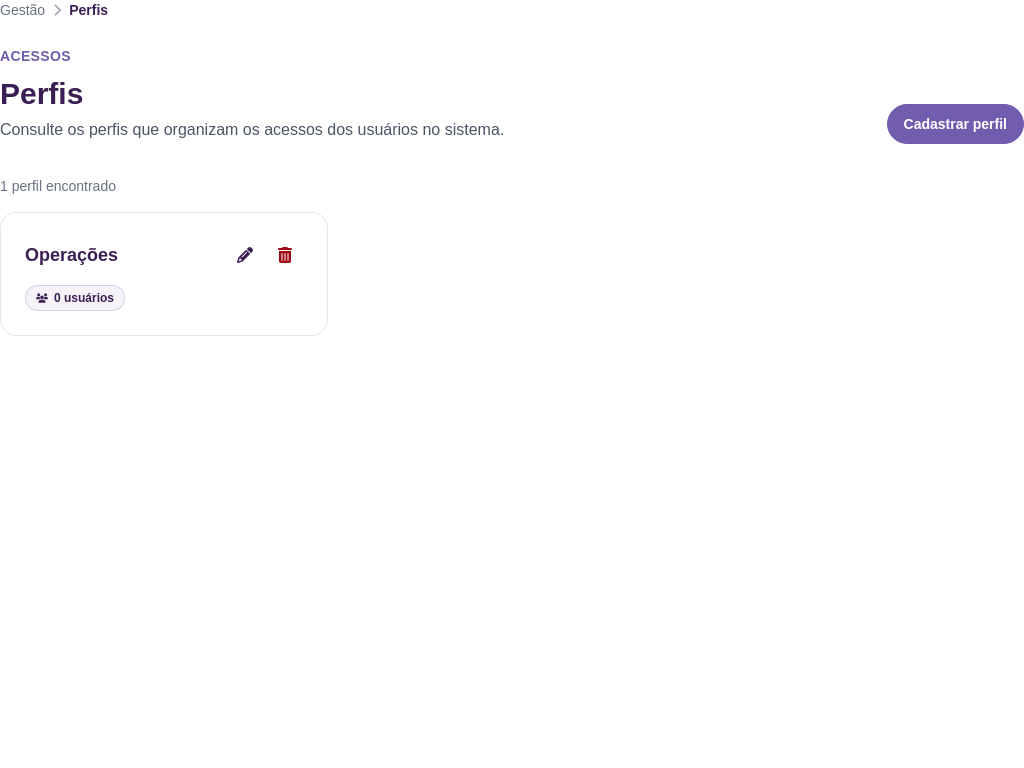
Scenario: Profile deletion › requires confirmation, permits cancellation, then deletes and refreshes the list
What coordinates should you click on to do the following:
click the button named "Excluir perfil Operações"
I would click on:
 (285, 255)
Its box is 267,237 -> 303,273.
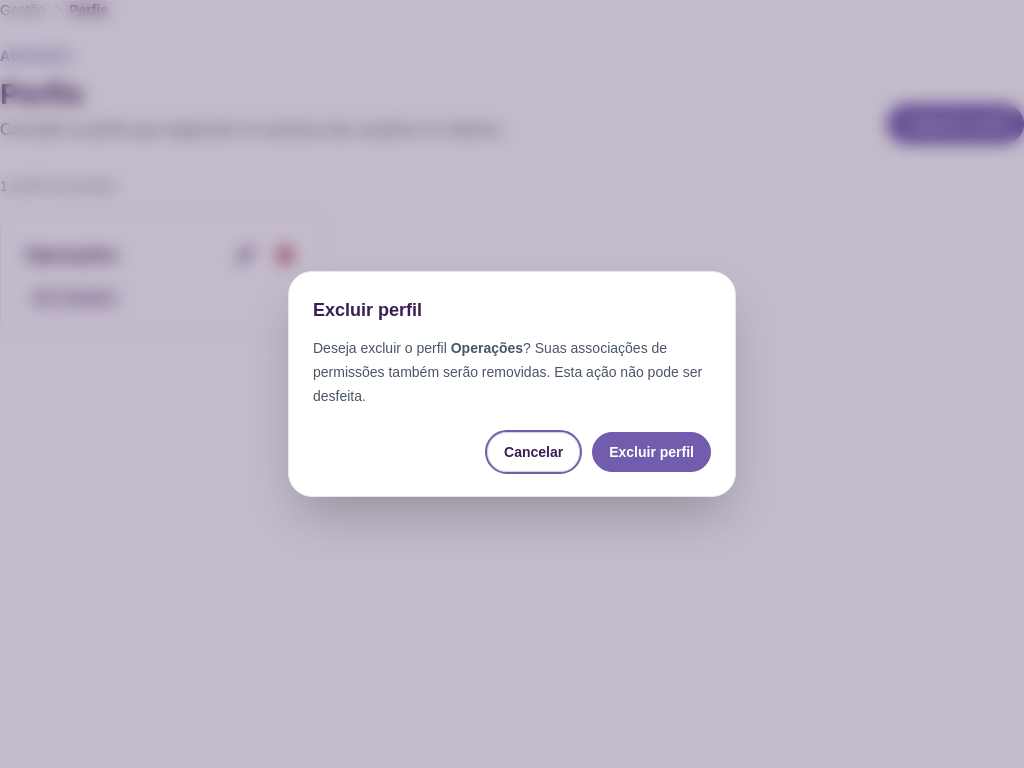
Expected: the dialog shows "Esta ação não pode ser desfeita.", 313,340 -> 702,404
What coordinates should you click on to do the following:
click the button "Cancelar"
I would click on:
 (534, 452)
Its box is 487,432 -> 580,472.
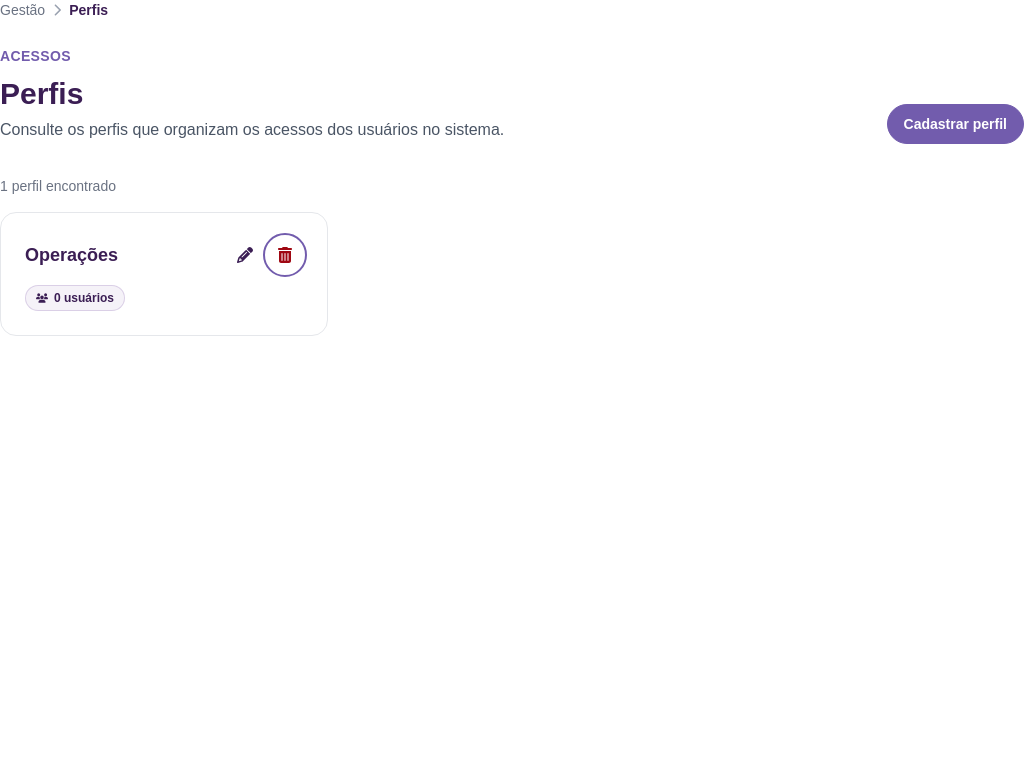
Expected: the dialog is gone
What coordinates should you click on to do the following:
click the button named "Excluir perfil Operações"
I would click on:
 (285, 255)
Its box is 267,237 -> 303,273.
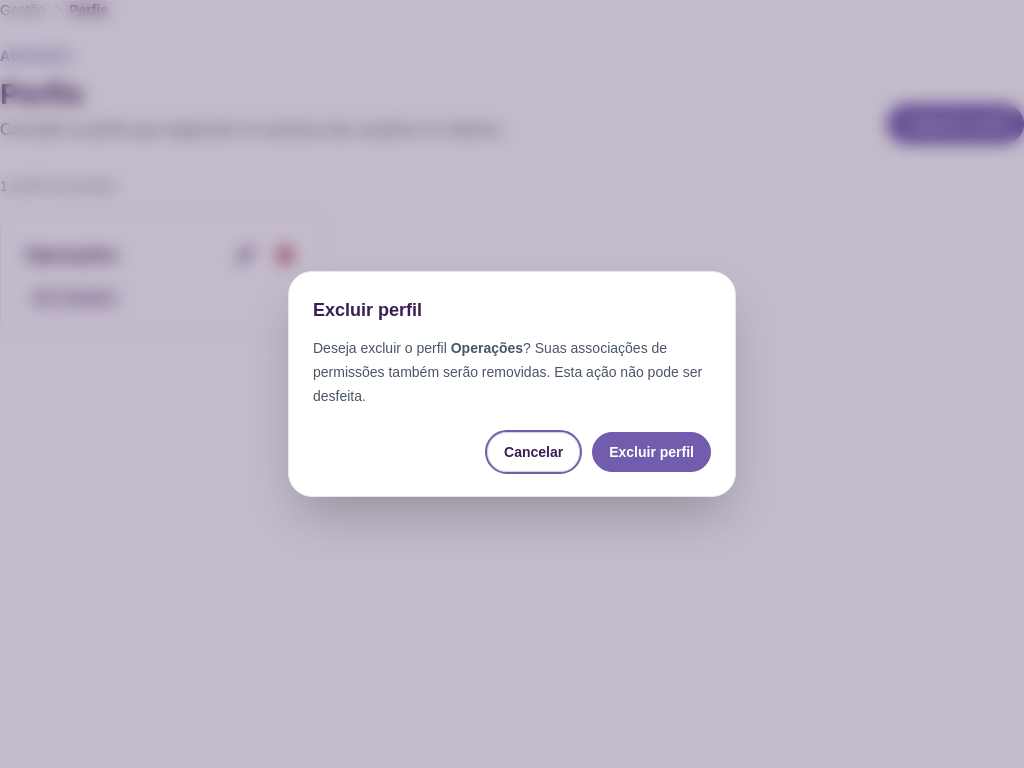
What coordinates should you click on to do the following:
click the button "Excluir perfil"
I would click on:
 (652, 452)
Its box is 592,432 -> 711,472.
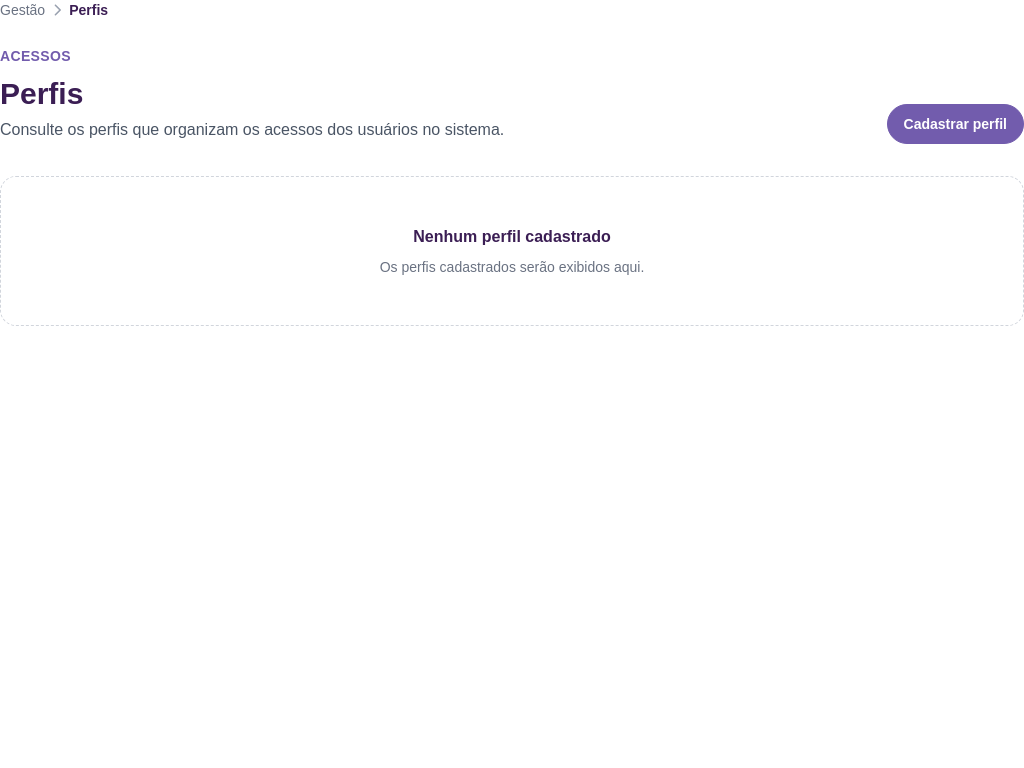
Expected: the heading "Nenhum perfil cadastrado" is shown, 413,228 -> 611,245
Expected: the dialog is gone
